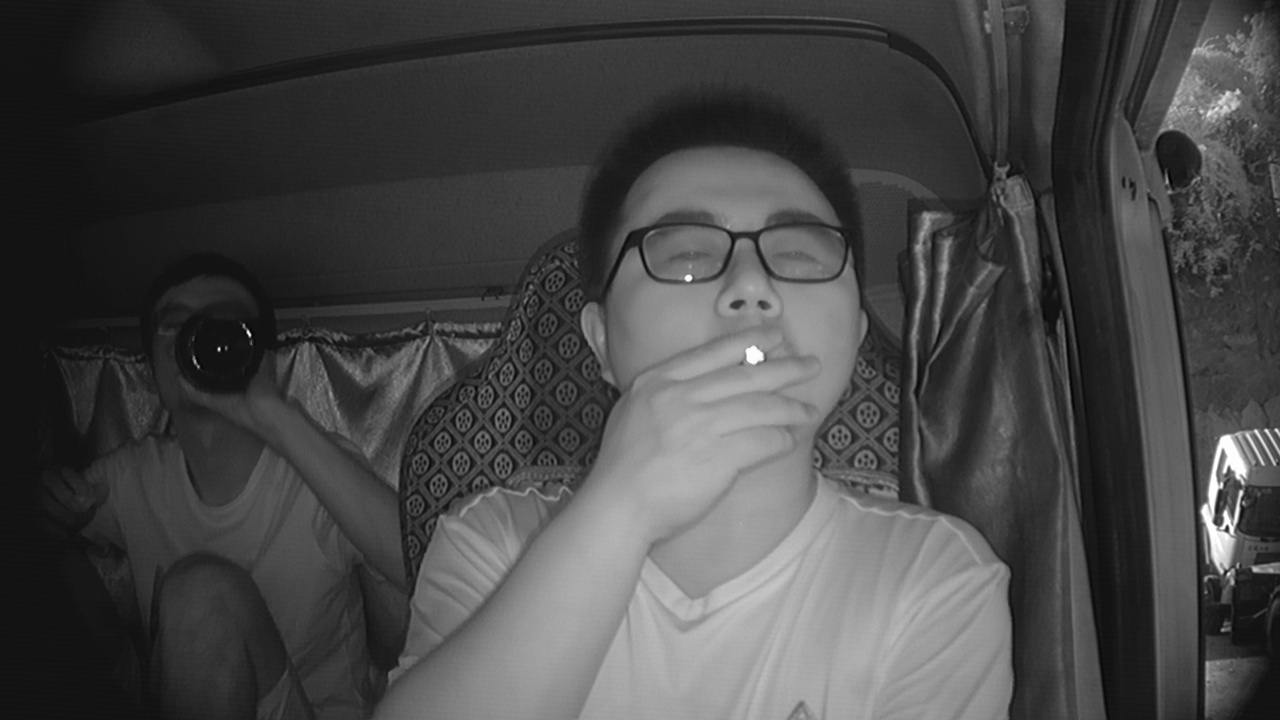hand: (639, 313, 815, 487)
